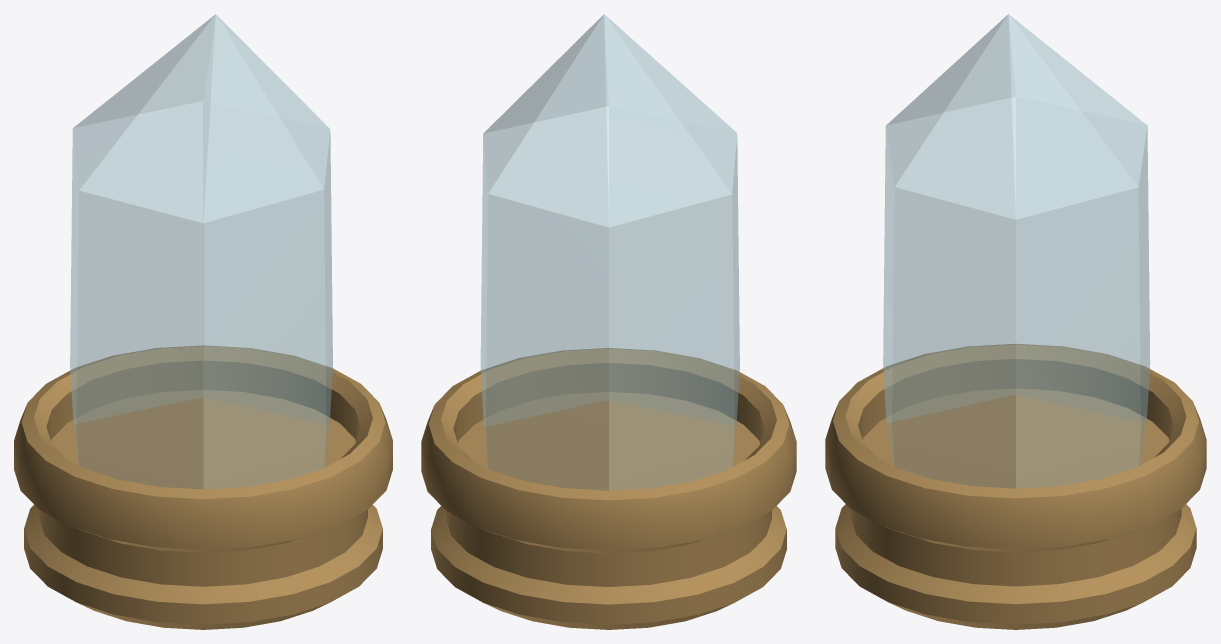
The model's file is seed_crystal.glb.
3 renders of one model, left to right at view 1: azimuth 30°, elevation 25°; view 2: azimuth 150°, elevation 25°; view 3: azimuth 270°, elevation 25°, orthographic.
Parts seen in each view (by area): view 1: seed_crystal, seed_collar; view 2: seed_crystal, seed_collar; view 3: seed_crystal, seed_collar.
Part boxes in pixels (bbox=[...]): seed_crystal: bbox=[70, 14, 332, 488]; seed_collar: bbox=[14, 345, 392, 629]; seed_crystal: bbox=[480, 14, 739, 490]; seed_collar: bbox=[421, 348, 796, 629]; seed_crystal: bbox=[883, 14, 1150, 488]; seed_collar: bbox=[825, 344, 1206, 629].
Bounding box in the file's own units: 0.0152 × 0.0244 × 0.0152.
